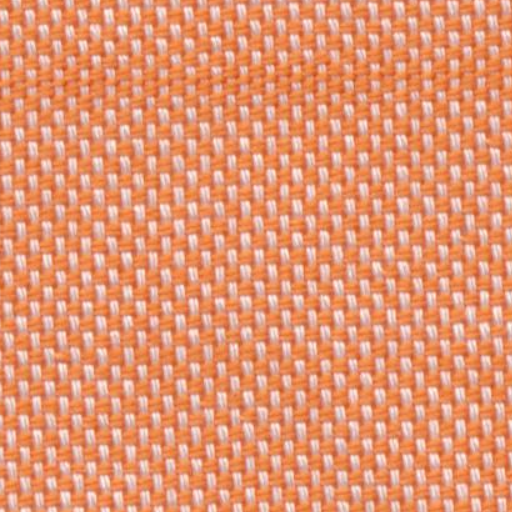TuoSha: (8, 38, 501, 112)
